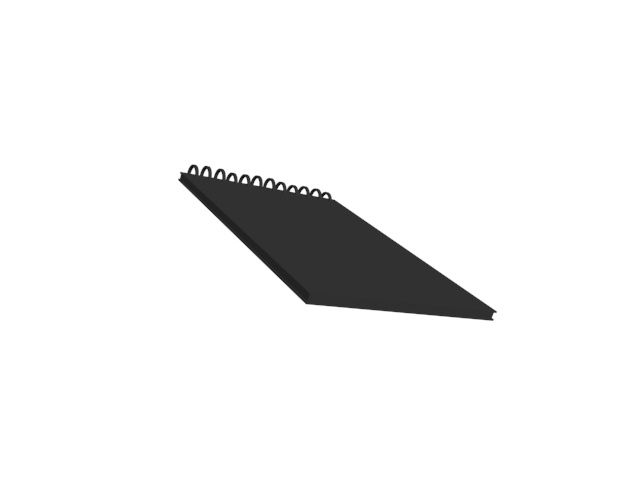paper_notebook: (177, 161, 504, 328)
